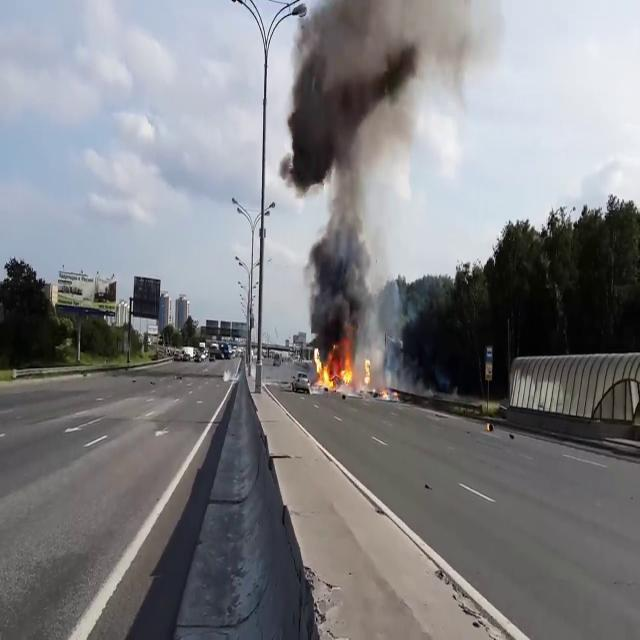Fire: (312, 344, 359, 394)
Smoke: (283, 0, 412, 342)
